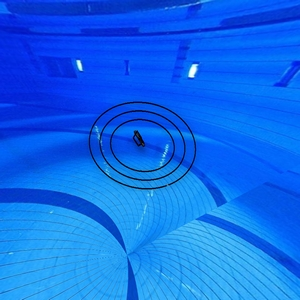circle: (87, 98, 202, 191)
submarine: (128, 129, 151, 151)
